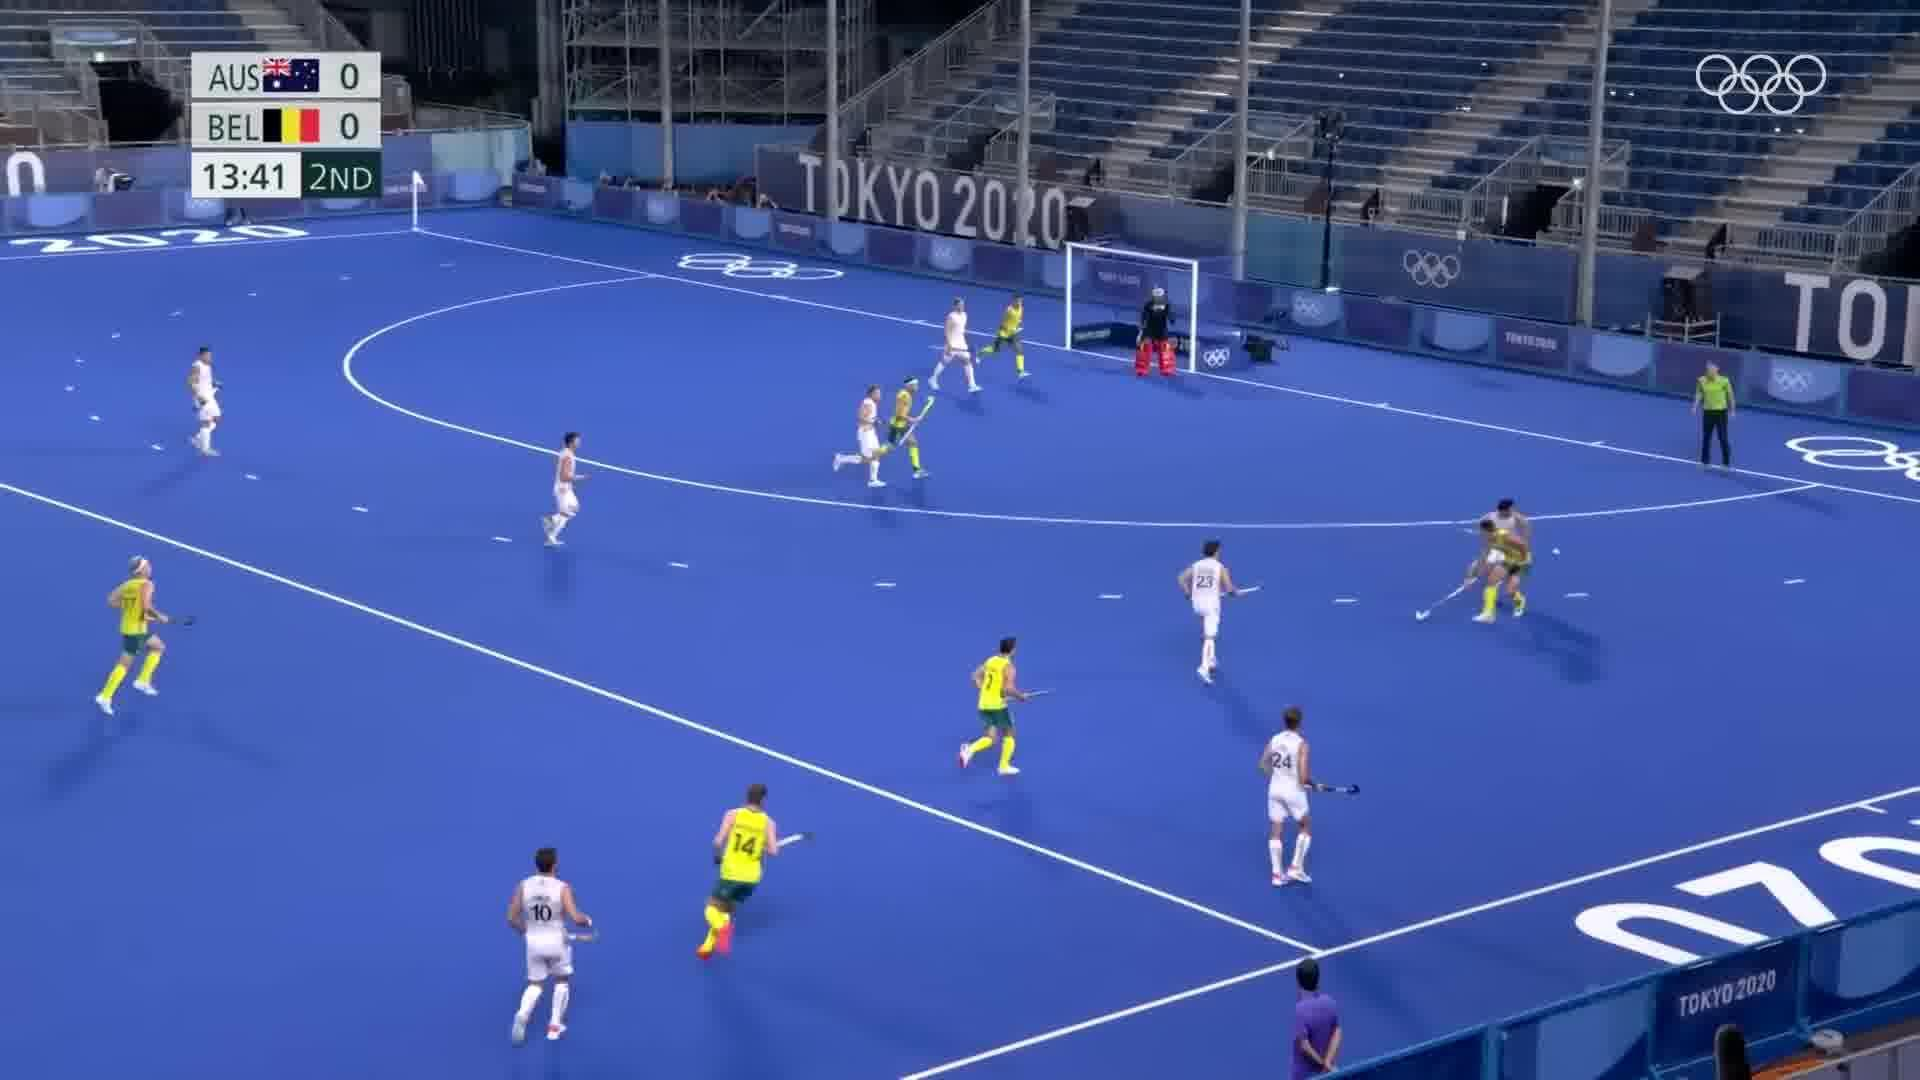ball: (1547, 542, 1567, 564)
